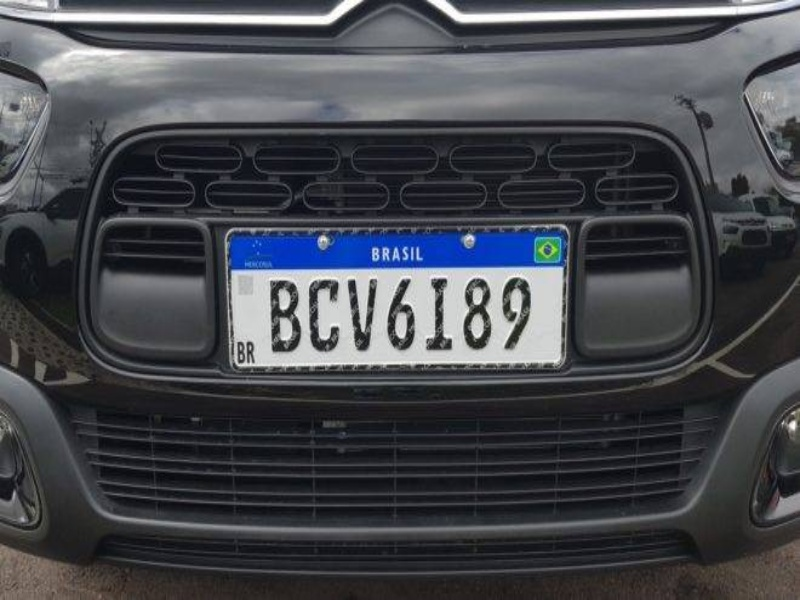placa: (216, 216, 576, 378)
